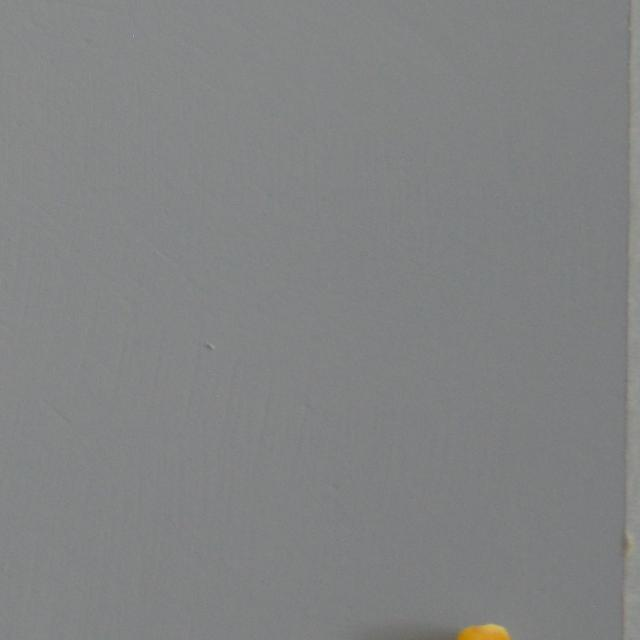pelicula: (432, 620, 520, 640)
